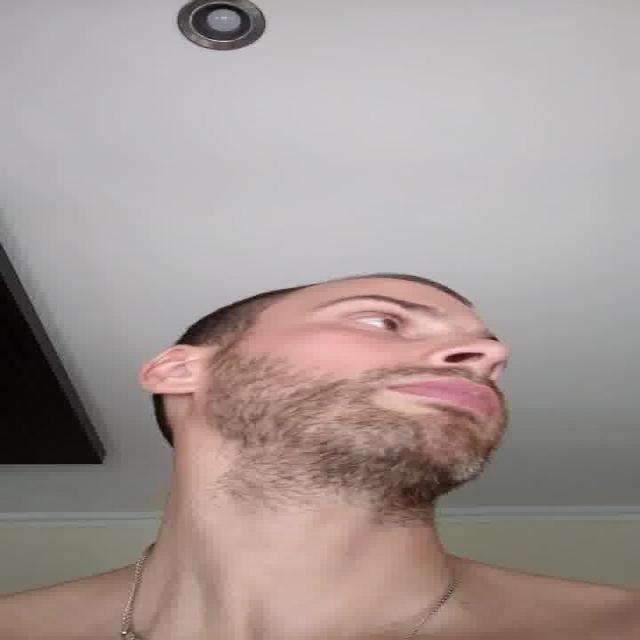earlobe: (148, 383, 197, 395)
eye: (346, 313, 401, 333)
nose: (436, 354, 507, 387)
wholeear: (143, 344, 197, 394)
